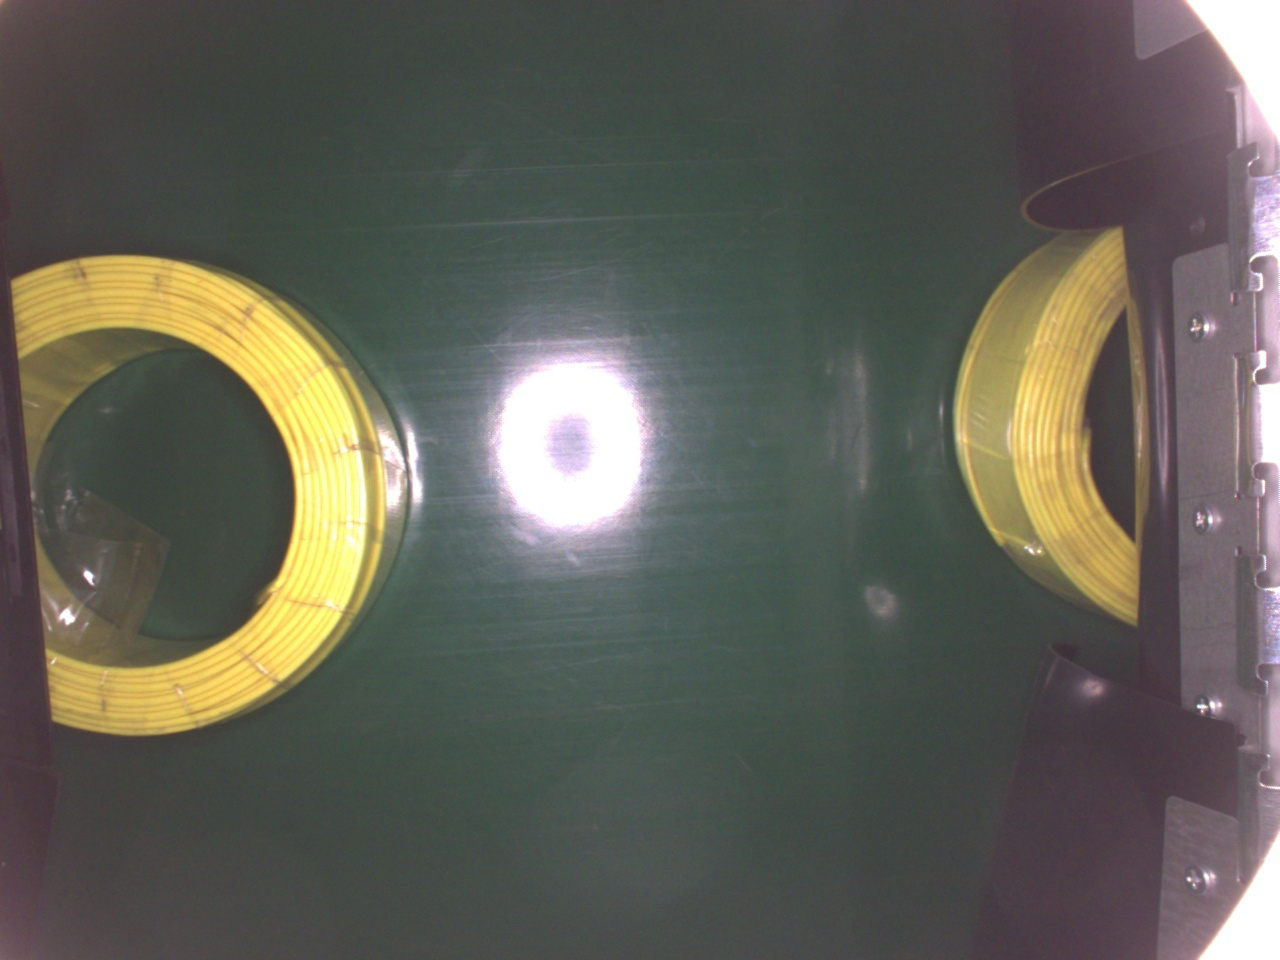yellow: (8, 250, 412, 740), (955, 226, 1137, 633)
